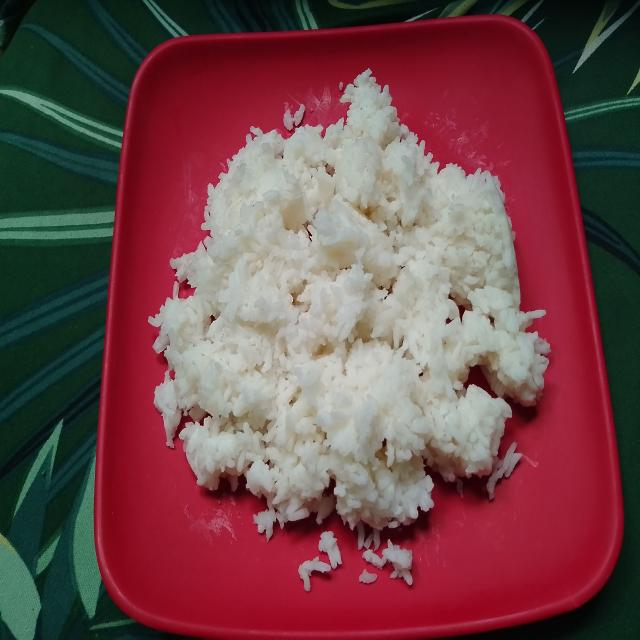Chicken -Chicken Inasal-: (159, 81, 545, 528)
